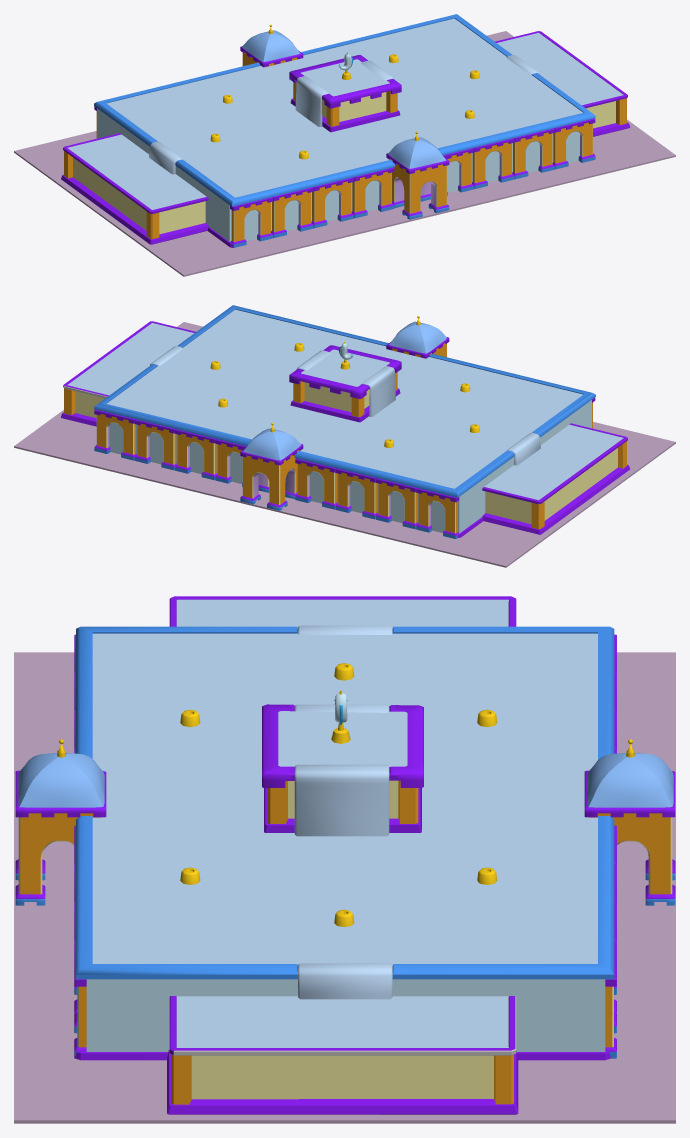
The model's file is NewGallery.fbx.
3 renders of one model, top to bottom at view 1: azimuth 30°, elevation 25°; view 2: azimuth 150°, elevation 25°; view 3: azimuth 270°, elevation 25°, orthographic. The views are drawn at different scales.
Visible parts, largest first — view 1: SmallGallery_LOD0; view 2: SmallGallery_LOD0; view 3: SmallGallery_LOD0.
Boxes of the visible parts, <box> form: SmallGallery_LOD0: <box>14,14,675,276</box>; SmallGallery_LOD0: <box>14,305,675,567</box>; SmallGallery_LOD0: <box>14,596,675,1123</box>.
Size of what is drawn, in the model's own units: 14349 by 2861 by 8576.
